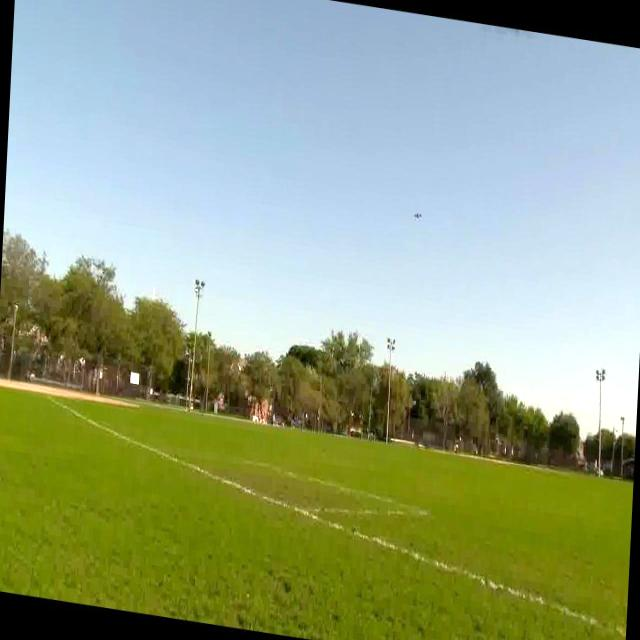drone: (411, 208, 427, 227)
